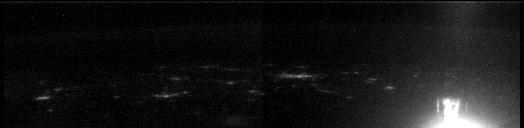positive: (433, 94, 465, 121)
